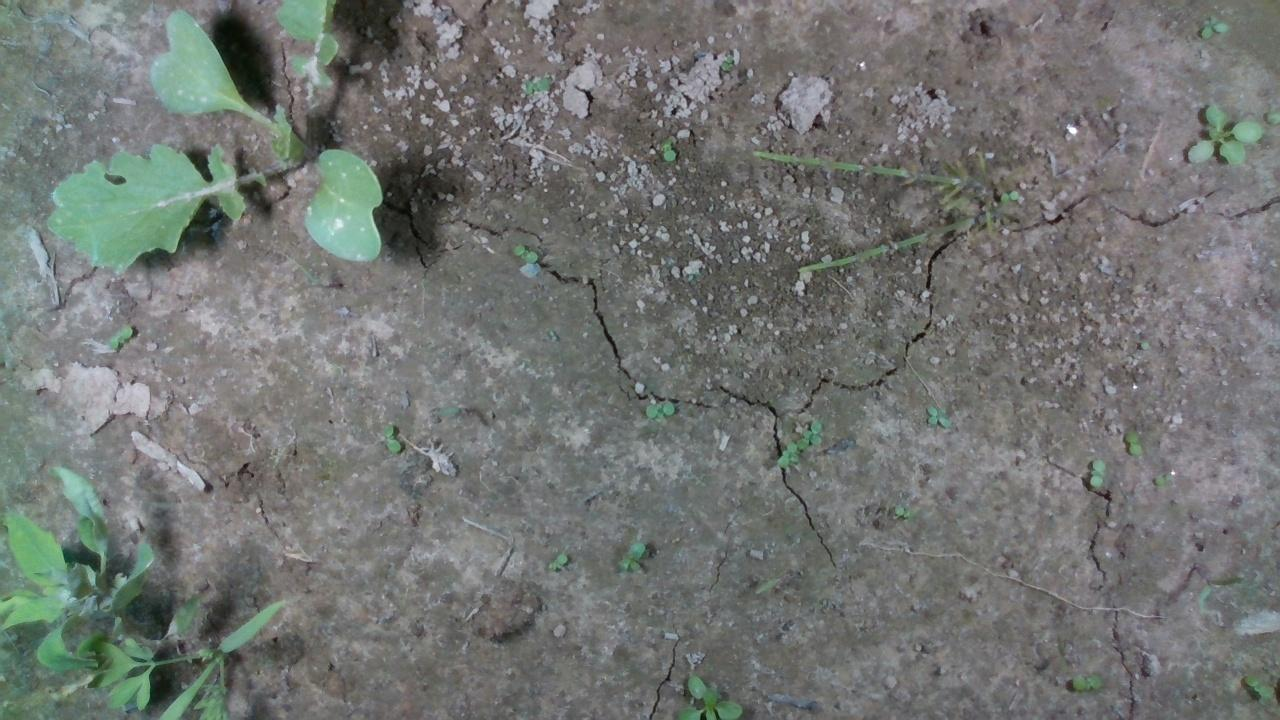weed: (506, 239, 539, 271), (1198, 13, 1226, 47), (376, 421, 402, 456), (656, 137, 686, 163), (1083, 455, 1104, 490), (925, 403, 949, 429), (648, 396, 668, 423), (546, 549, 569, 572), (1121, 431, 1142, 456)
